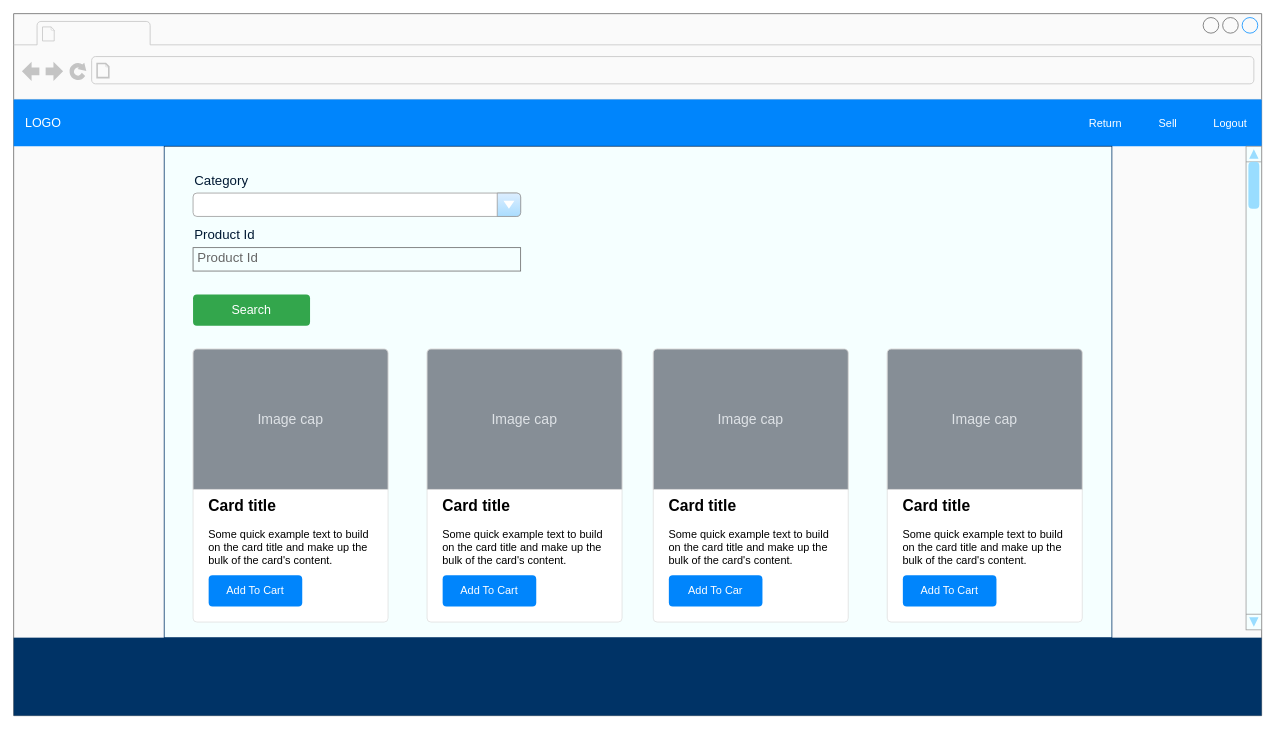
The diagram is 1275 pixels wide and 729 high, and some of its shapes have lost their labels. The centre of each missing label's shape, as x and y in pixels:
https://www.draw.io: [212,70]
Page 1: [103,32]
Select Category: [356,204]
